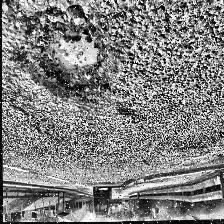pothole: (14, 10, 114, 111)
